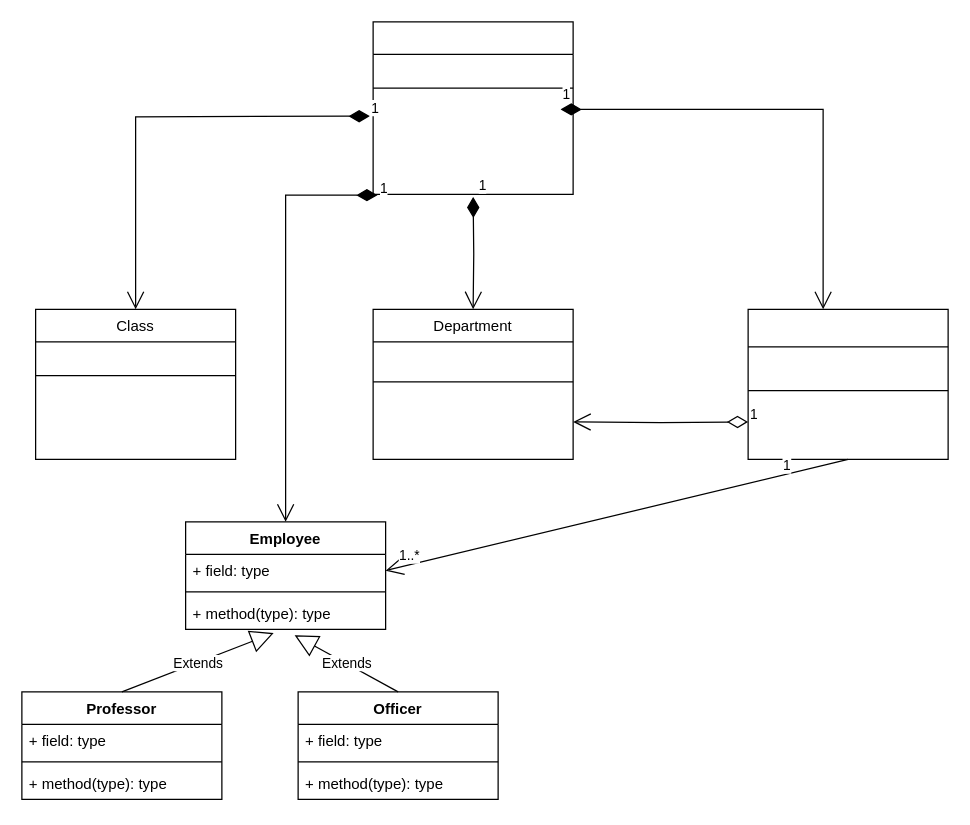
Some shapes in this 970 by 825 pixel diagram are drawn without their labels. Here are the shapes that lost their labels. From the top down, the centre of each, then its label:
At (472,107): "University".
At (847,383): "Office".
